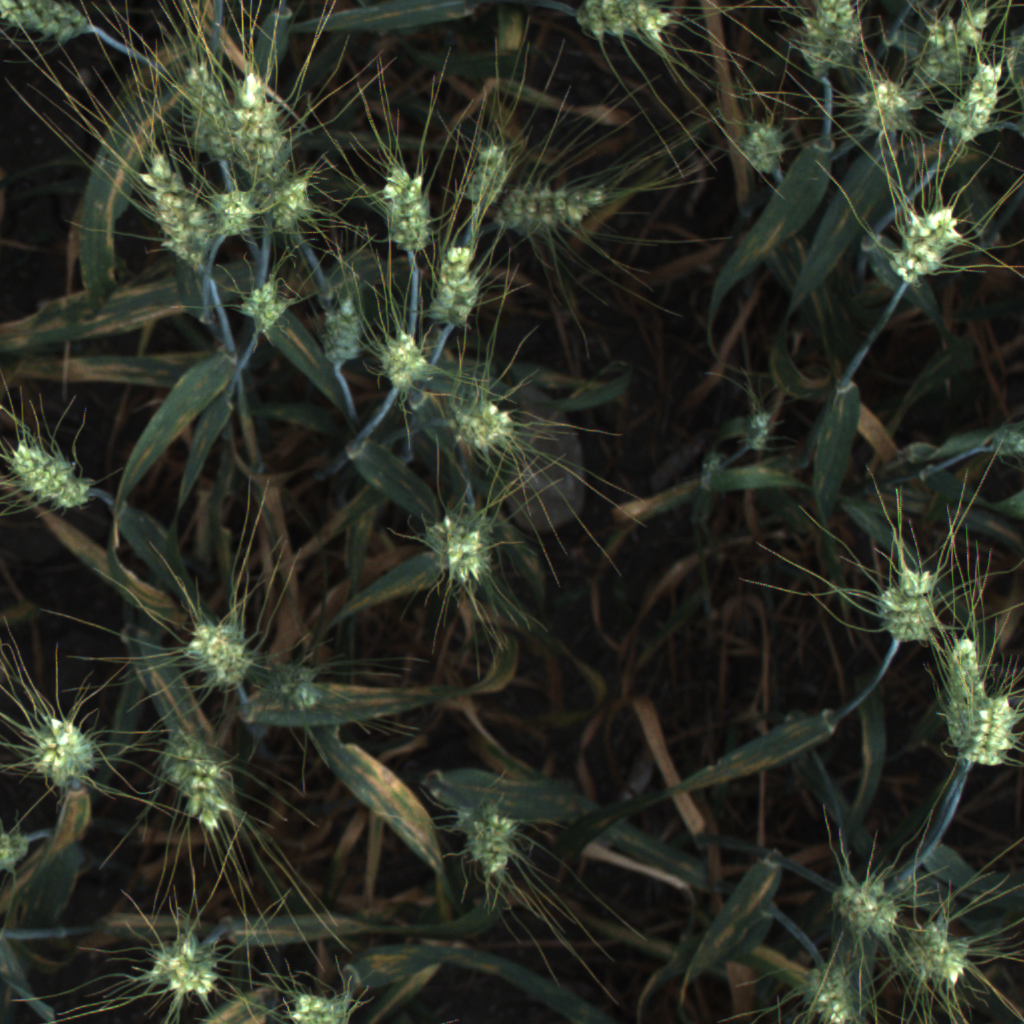wheat_head: (121, 138, 217, 287), (407, 225, 503, 345), (862, 549, 962, 662), (877, 185, 980, 292), (872, 909, 988, 1002), (157, 725, 249, 842), (138, 912, 241, 1015), (932, 618, 1004, 761), (165, 602, 264, 695), (14, 703, 110, 798), (435, 384, 541, 470), (365, 152, 447, 261), (499, 169, 616, 244), (223, 69, 297, 181), (934, 55, 1016, 155), (367, 319, 443, 426), (417, 501, 500, 598), (818, 868, 918, 946), (458, 797, 540, 889), (9, 434, 94, 522), (306, 269, 372, 382), (556, 0, 686, 55), (720, 104, 803, 190), (918, 4, 997, 93), (962, 677, 1024, 778), (794, 950, 878, 1024), (174, 79, 242, 166), (795, 0, 866, 83), (229, 259, 295, 345), (850, 69, 926, 142), (257, 658, 338, 725), (0, 0, 103, 52), (278, 976, 388, 1024), (454, 127, 513, 214), (259, 171, 329, 240), (0, 814, 38, 904), (190, 187, 259, 235), (736, 413, 785, 466)
